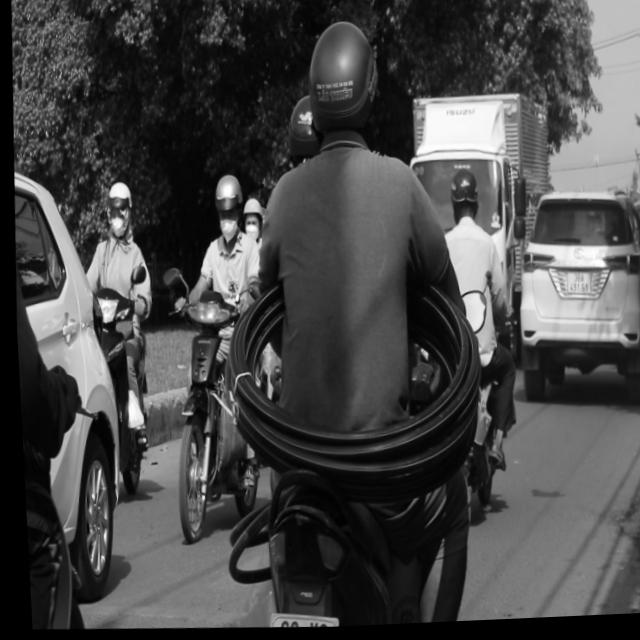helmet: (299, 18, 384, 155), (207, 174, 242, 248), (282, 96, 317, 169), (100, 180, 133, 242), (444, 168, 479, 225), (237, 191, 263, 239)
licenseplate: (179, 8, 523, 634), (153, 167, 273, 547), (421, 165, 524, 528), (64, 176, 162, 505)
